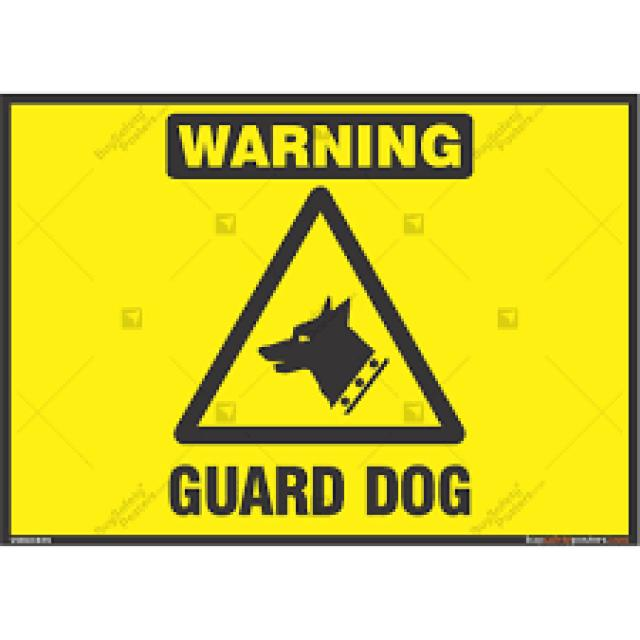guard-dog: (137, 104, 537, 530)
